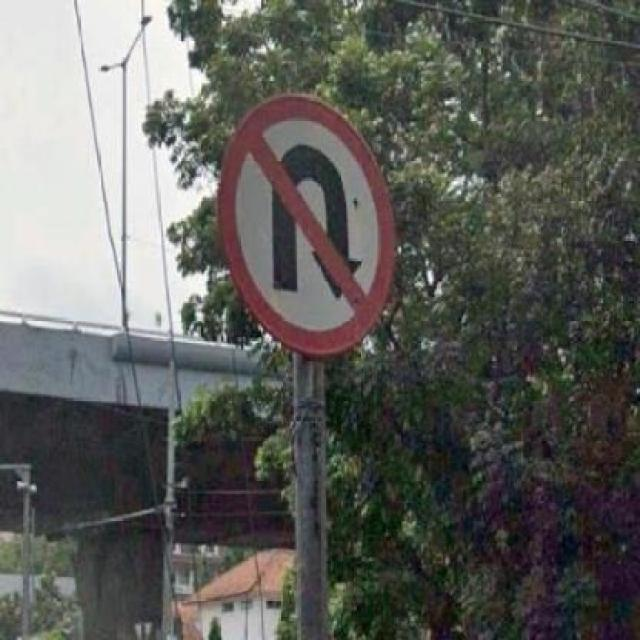u turn prohibited: (216, 86, 405, 372)
